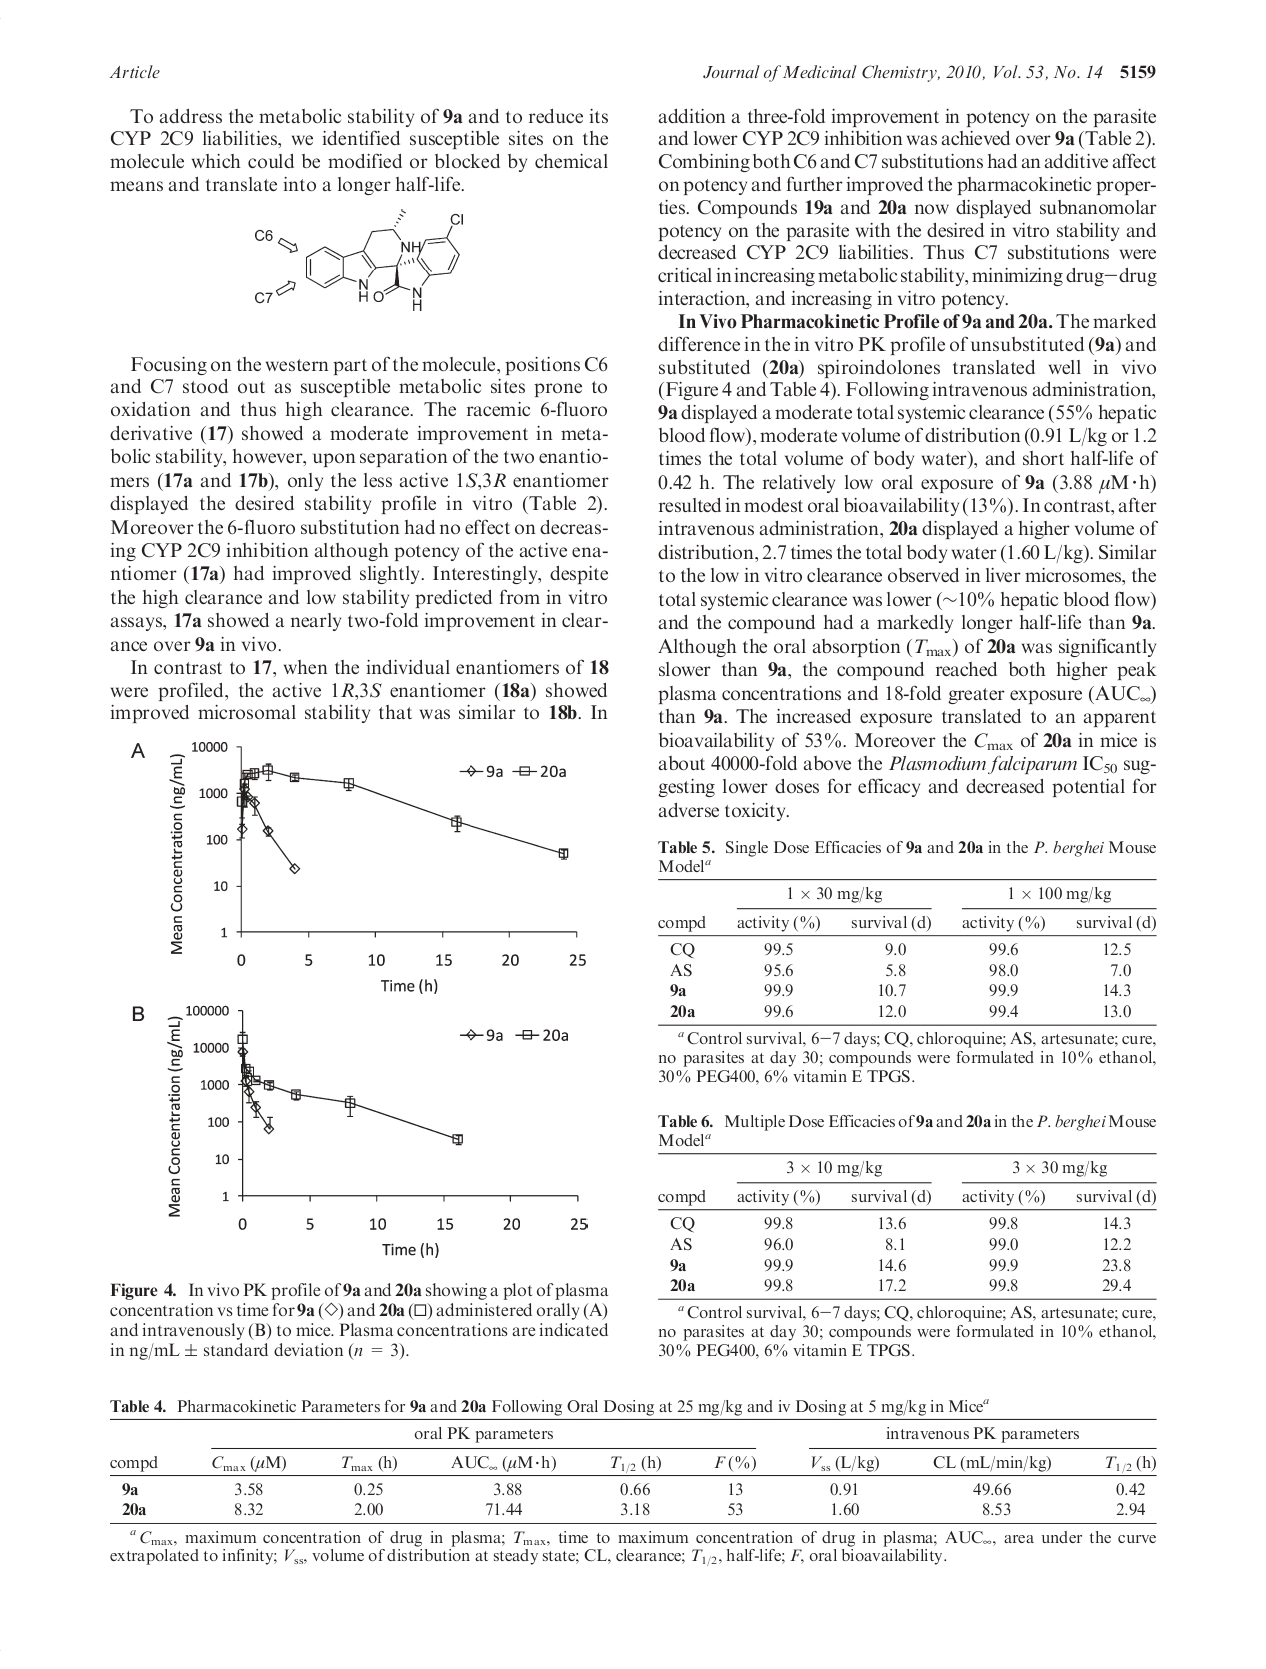exist_molecular: (303, 207, 465, 314)
